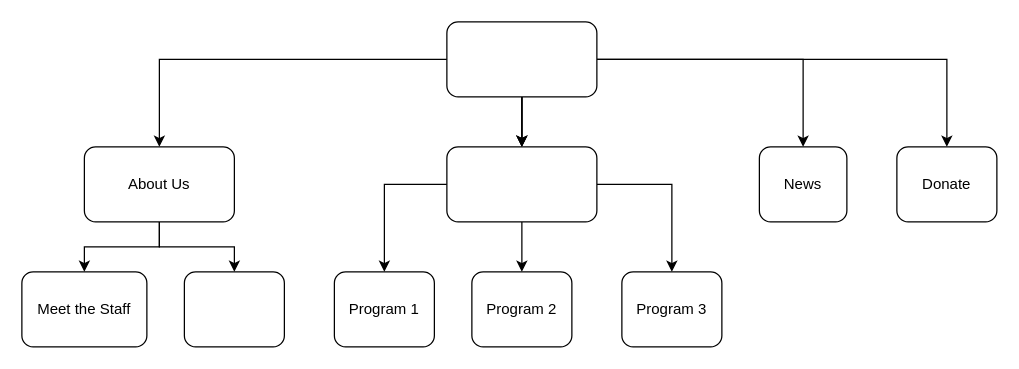
Image size: 1019x369. Some labels were removed from this diagram. The shapes that lost their labels are listed below. From the top down, each one's centre as x and y in pixels, then its label:
pixel 521 59: Home
pixel 521 184: Programs
pixel 233 309: Contact Us
